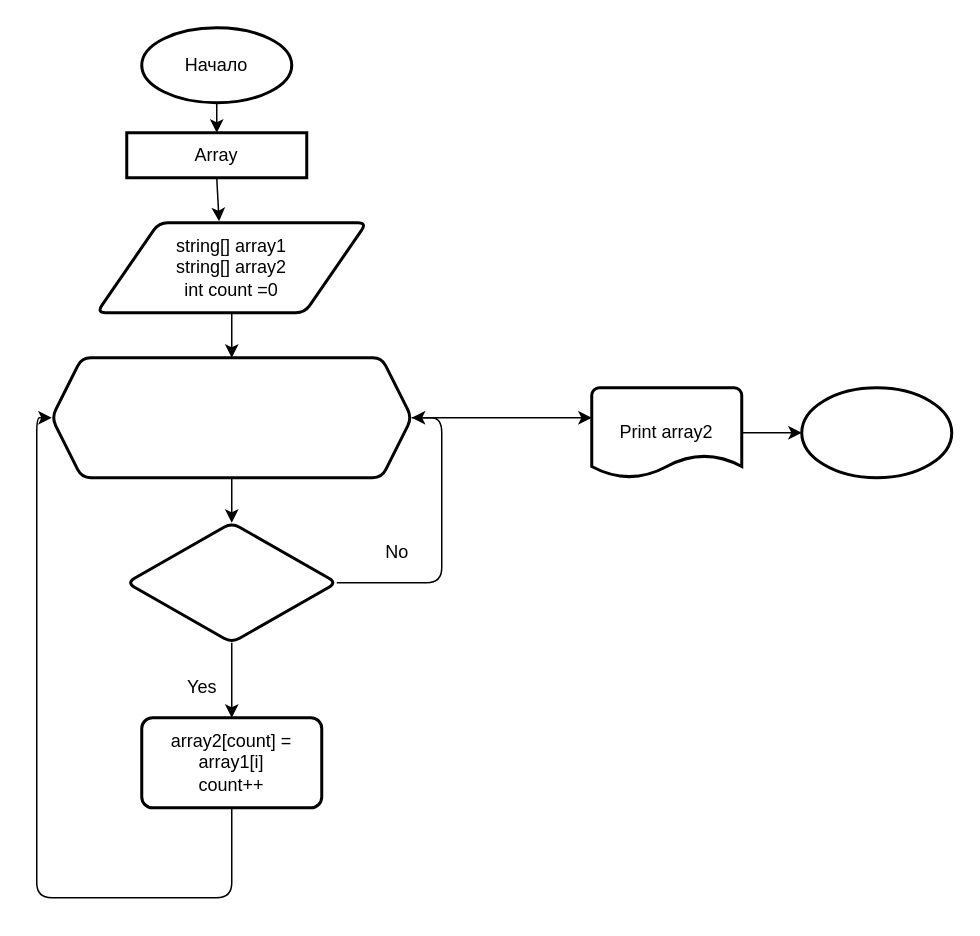
Image size: 980x936. Some labels were removed from this diagram. The centre of each missing label's shape, as x and y in pixels:
"for (int i=0; i<array.lenght; i++" belongs at [231,417].
"if (array.Lenght <=3)" belongs at [231,582].
"Конец" belongs at [876,432].
